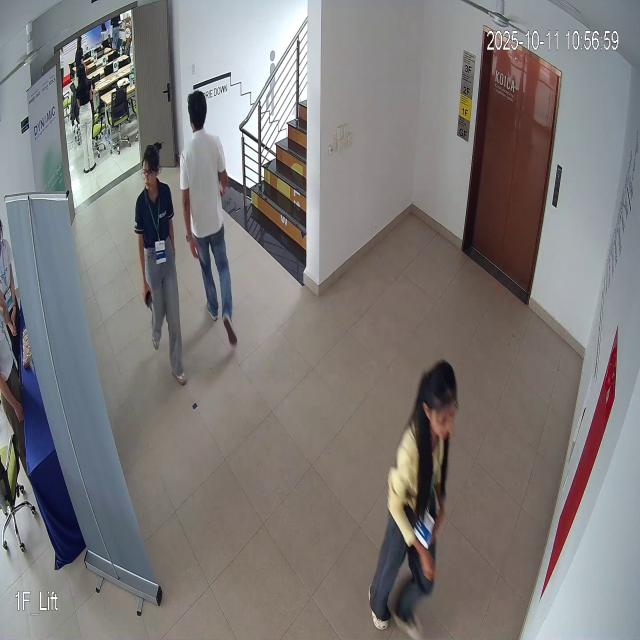face: (136, 136, 172, 200)
